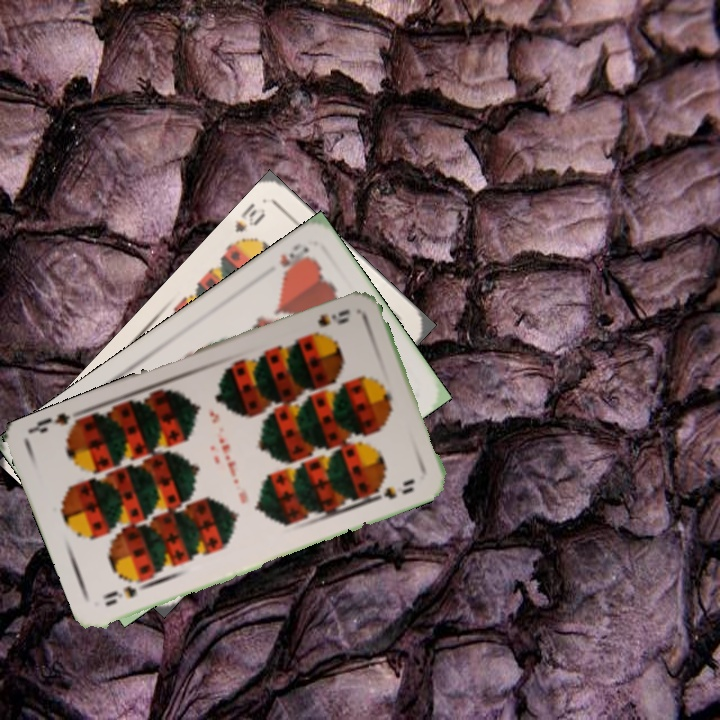HO: (275, 239, 312, 281)
S10: (226, 199, 268, 249)
S9: (99, 582, 139, 609), (313, 305, 352, 329)
